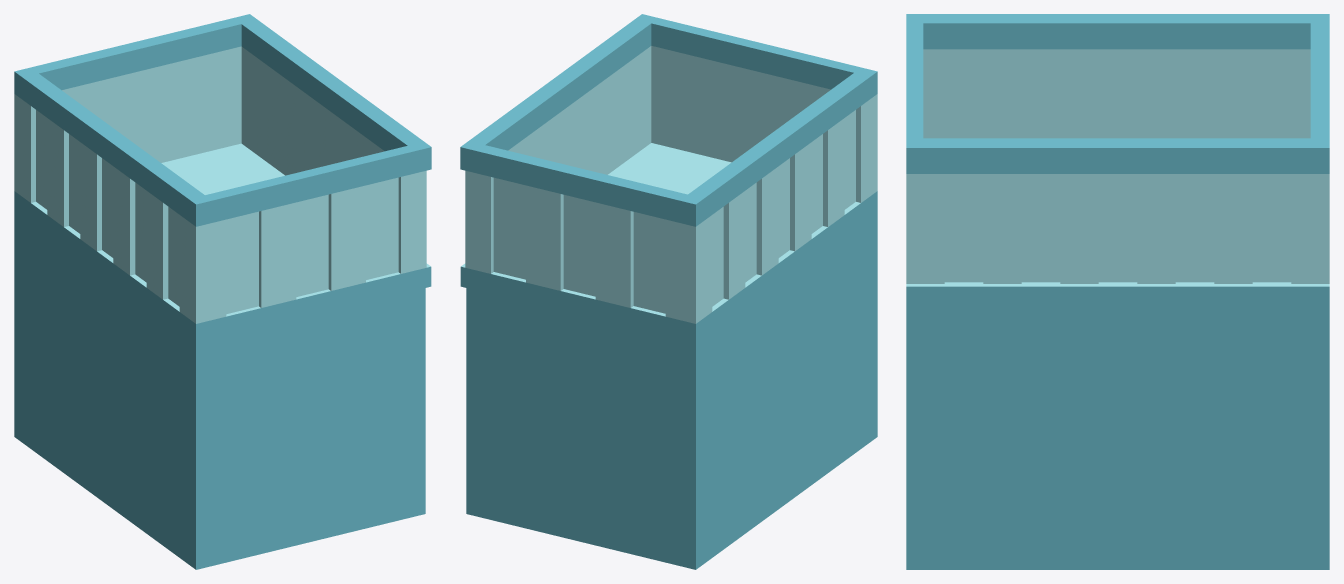
Rendered from extrawallsmall.fbx.
3 views of the same model, side by side, from view 1: azimuth 30°, elevation 25°; view 2: azimuth 150°, elevation 25°; view 3: azimuth 270°, elevation 25° (orthographic). The views are drawn at different scales.
Parts seen in each view (by area): view 1: Roof.021, extrawallsmall; view 2: Roof.021, extrawallsmall; view 3: Roof.021, extrawallsmall.
Boxes of the visible parts, x1=… form: Roof.021: x1=14, y1=14, x2=431, y2=343; extrawallsmall: x1=14, y1=209, x2=425, y2=569; Roof.021: x1=460, y1=14, x2=877, y2=341; extrawallsmall: x1=466, y1=209, x2=877, y2=569; Roof.021: x1=906, y1=14, x2=1329, y2=309; extrawallsmall: x1=906, y1=310, x2=1329, y2=569.
Bounding box in the file's own units: 6.48 × 9.61 × 8.67.
